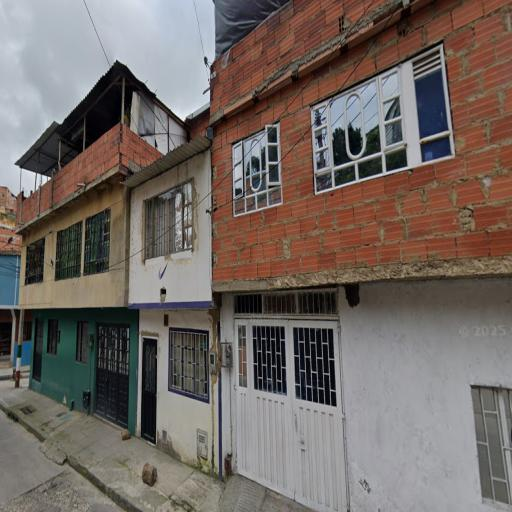Casa: (209, 0, 512, 511), (0, 45, 201, 438), (127, 133, 220, 481)
